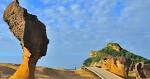yehliu: (1, 1, 60, 58)
